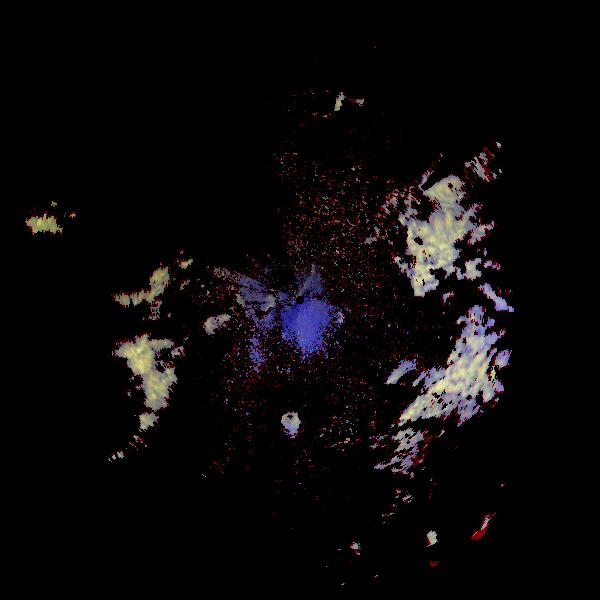roost: (283, 412, 301, 430)
